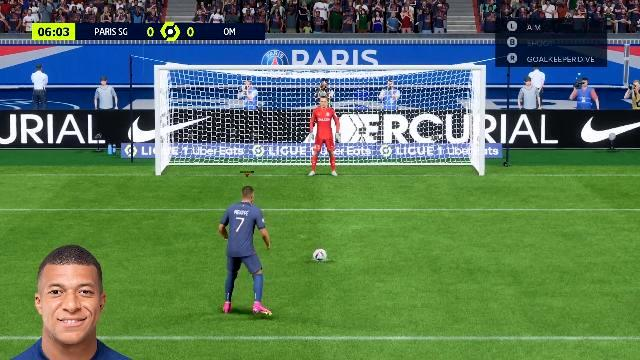bottom-left: (160, 126, 278, 178)
bottom-right: (370, 126, 480, 178)
center-down: (278, 126, 369, 178)
center-up: (278, 70, 369, 126)
circle: (314, 260, 331, 260)
football: (313, 249, 327, 261)
goalkeeper: (306, 95, 339, 179)
player: (218, 184, 274, 314)
top-left: (160, 70, 278, 126)
top-right: (370, 70, 480, 126)
